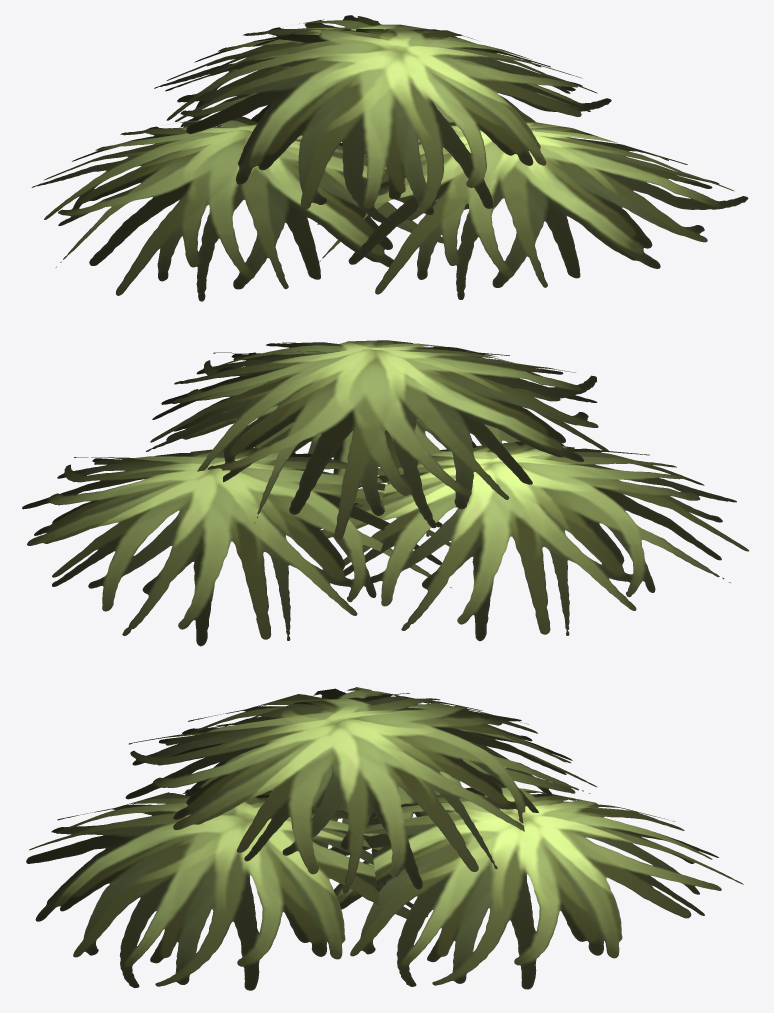
Rendered from painted-grass-003.glb.
3 renders of one model, top to bottom at view 1: azimuth 30°, elevation 25°; view 2: azimuth 150°, elevation 25°; view 3: azimuth 270°, elevation 25°, orthographic. The views are drawn at different scales.
Size of the model in its own units: 11.93 by 2.72 by 12.15.
1 material, 1 textured.
